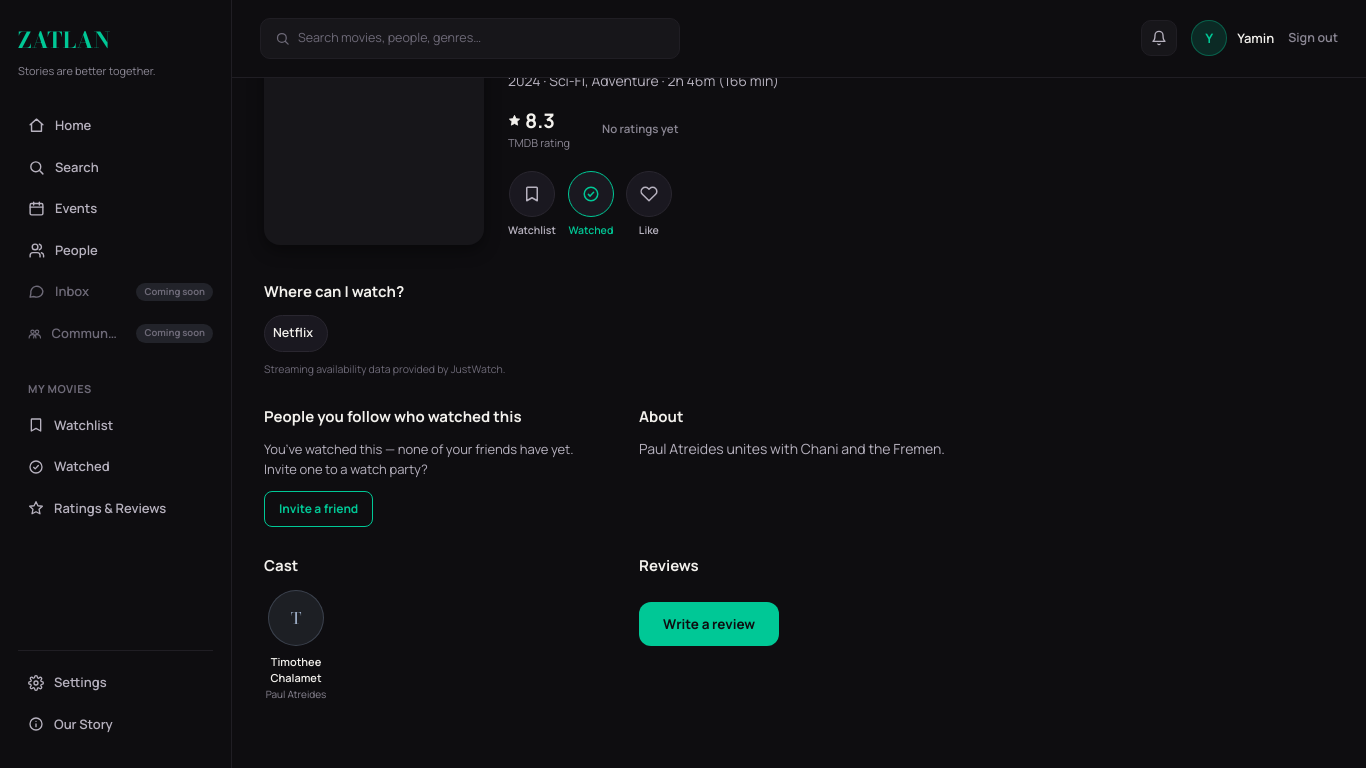
Test: MovieDetail › invites the caller to start a watch party when they've already watched it but no followed friend has, opening the create-event flow pre-filled with this movie
This screenshot has width=1366, height=768.
(page scrolled)
Step 1. Click the button "Invite a friend" → click(319, 509), box top-left (264, 491), bottom-right (373, 527)
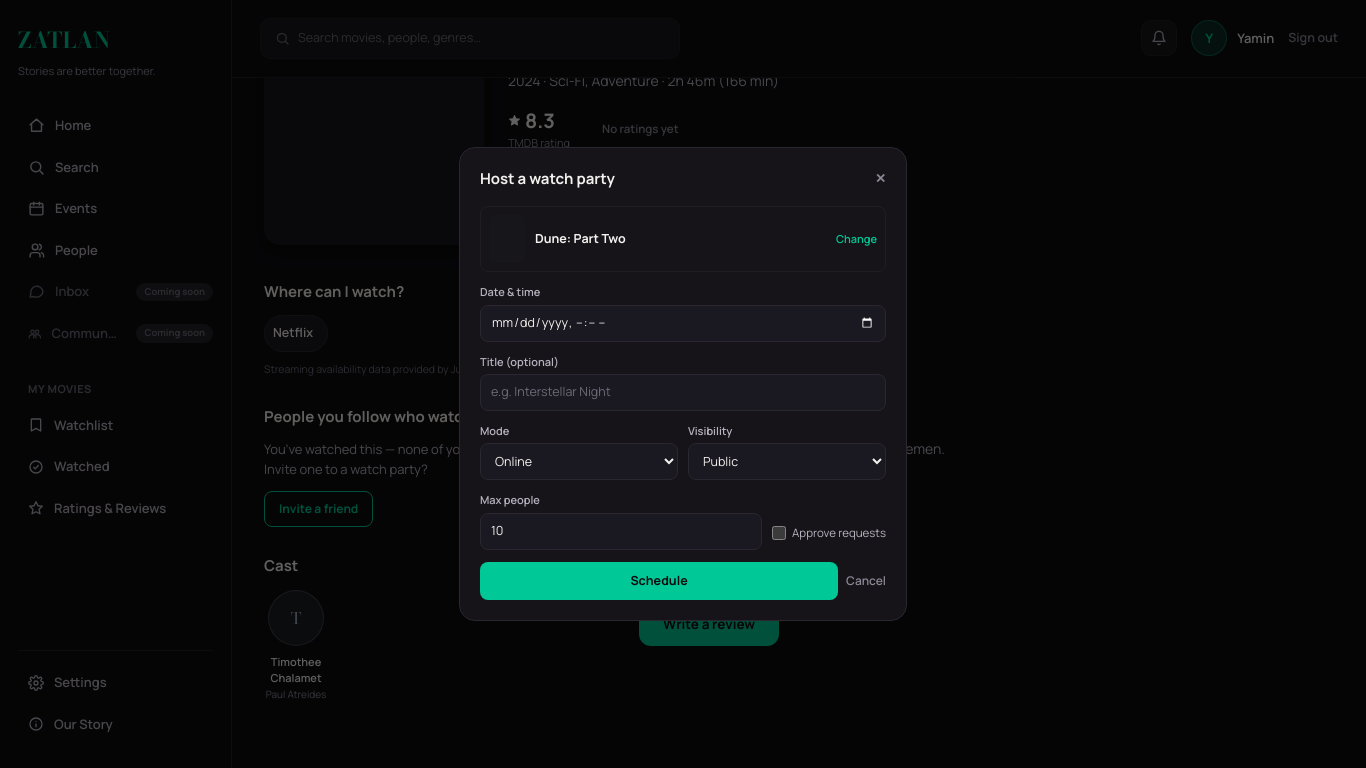
Expected: the dialog "Host a watch party" is shown, top-left (459, 147), bottom-right (907, 621)
